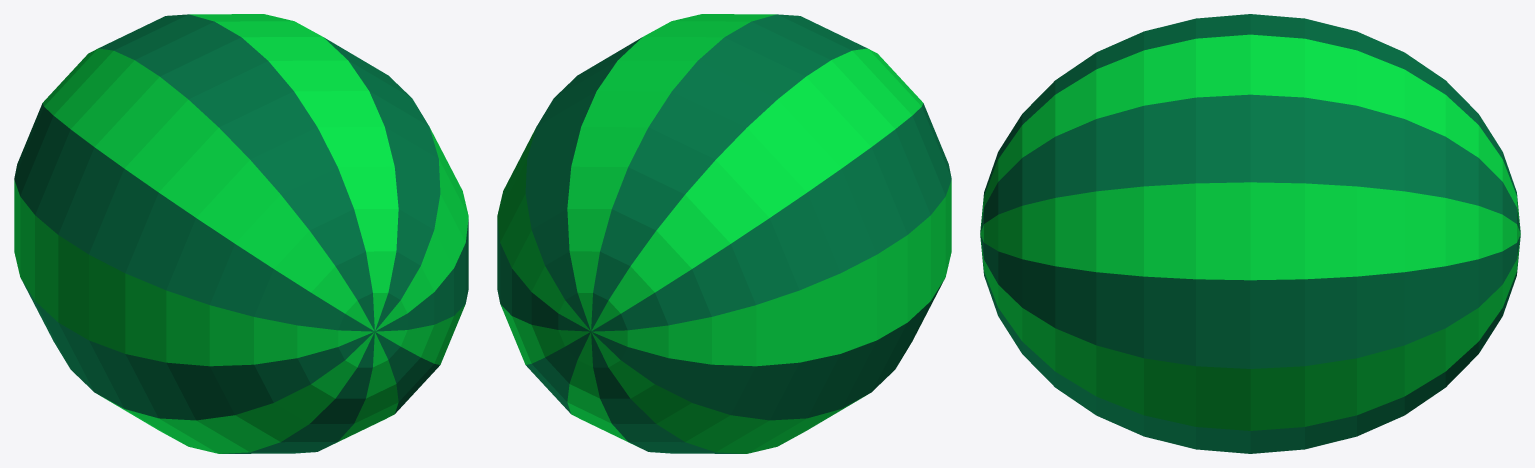
The model's file is Watermelon_2.fbx.
The picture shows the model from 3 angles, left to right: view 1: azimuth 30°, elevation 25°; view 2: azimuth 150°, elevation 25°; view 3: azimuth 270°, elevation 25°; orthographic projection.
Visible parts, largest first — view 1: Watermelon_2; view 2: Watermelon_2; view 3: Watermelon_2.
Boxes of the visible parts, x1=… form: Watermelon_2: x1=14, y1=14, x2=468, y2=453; Watermelon_2: x1=497, y1=14, x2=951, y2=453; Watermelon_2: x1=980, y1=14, x2=1520, y2=453.
Size of the model in its own units: 0.188 by 0.1929 by 0.237.
